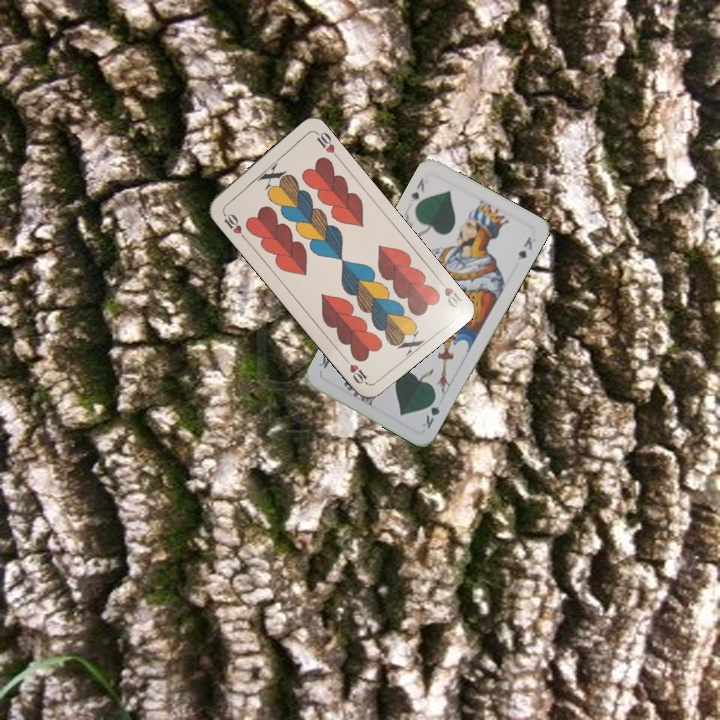GK: (418, 392, 443, 432), (406, 174, 427, 206)
H10: (433, 274, 465, 311), (218, 207, 248, 241)
